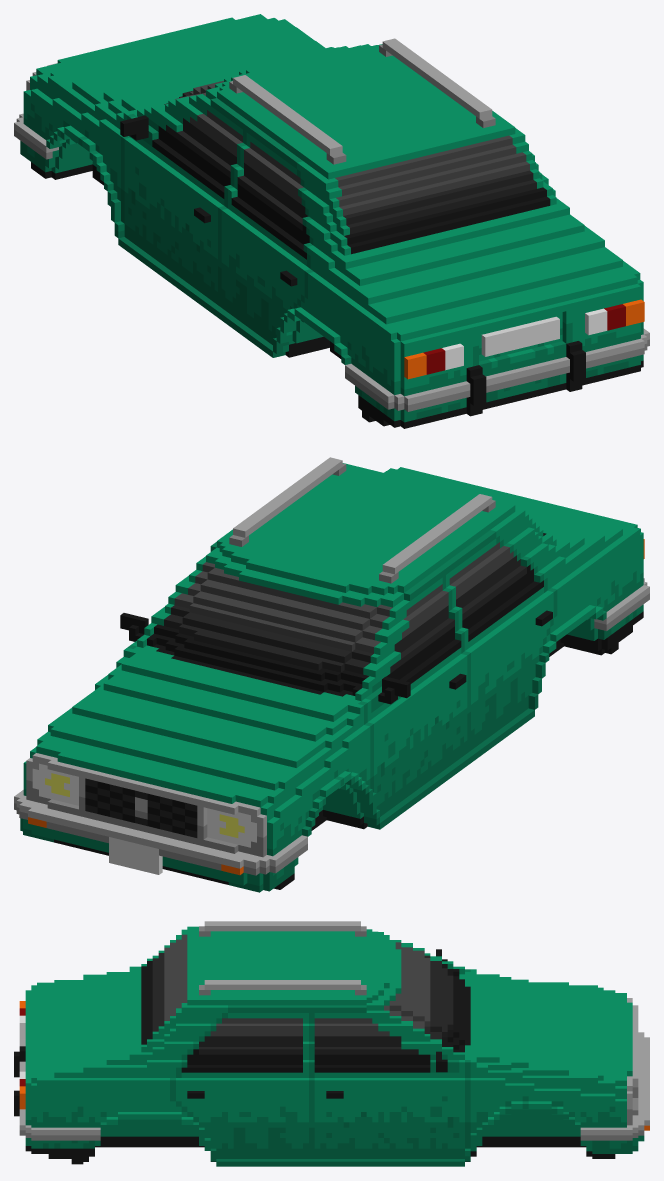
3 views of the same model, one above another, from view 1: azimuth 30°, elevation 25°; view 2: azimuth 150°, elevation 25°; view 3: azimuth 270°, elevation 25° (orthographic). The views are drawn at different scales.
Visible parts, largest first — view 1: VOX; view 2: VOX; view 3: VOX.
Part boxes in pixels (x1,y1,x2,y2): VOX: (14,14,649,428); VOX: (14,457,649,892); VOX: (14,921,649,1166).
Size of the model in its own units: 0.046 by 0.031 by 0.11.
